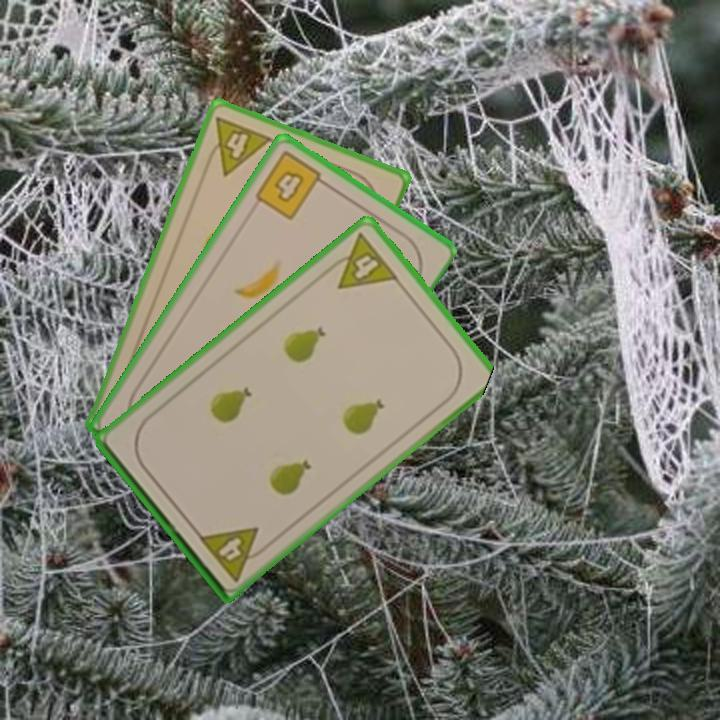4b: (251, 147, 332, 223)
4p: (321, 229, 401, 292), (200, 112, 275, 179), (194, 522, 273, 584)
